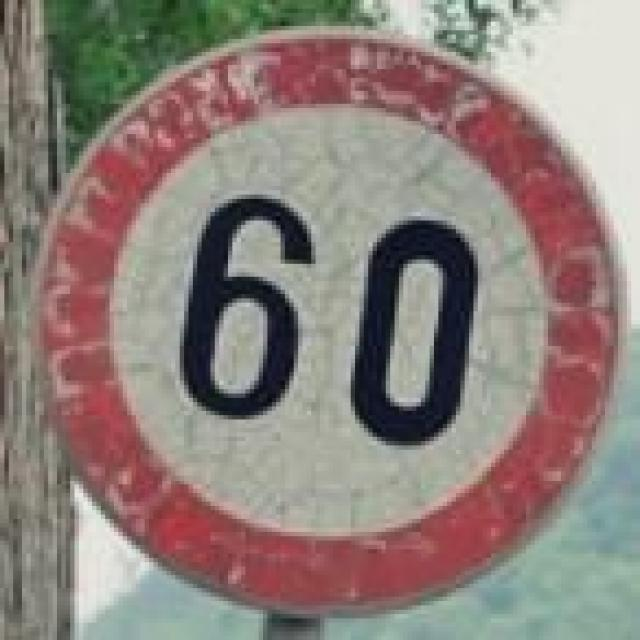Ograniczenie predkosci do 60: (26, 22, 614, 606)
